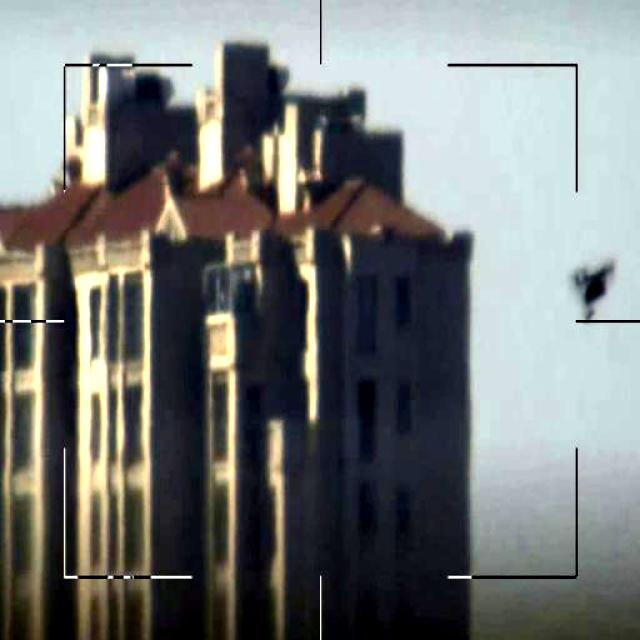bird: (576, 250, 629, 324)
